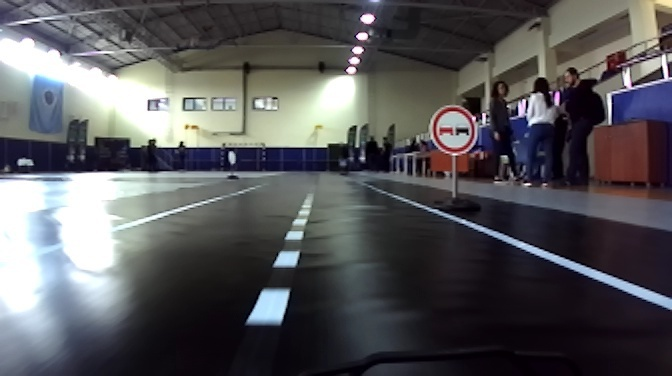sollama_yasak: (429, 105, 479, 156)
